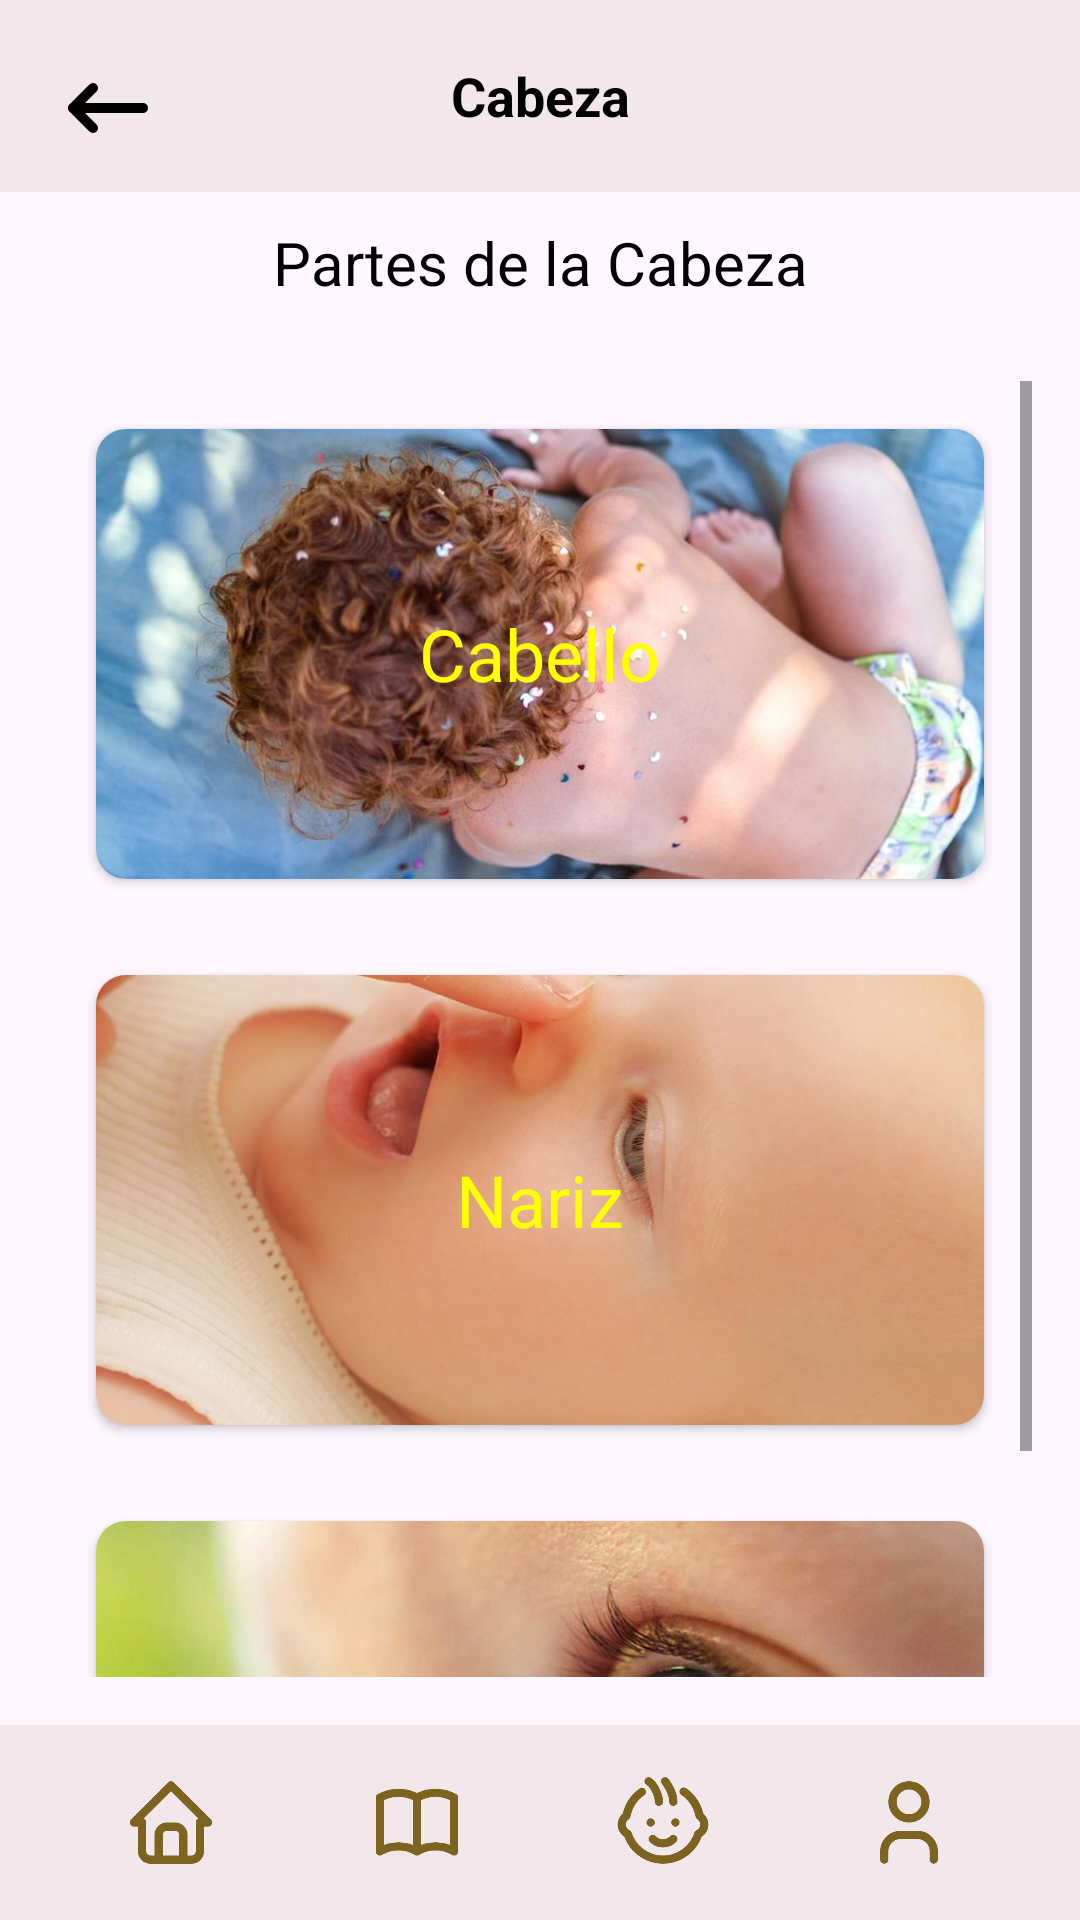

Locate icon controls on the screen. Image size 1080px×1920px, boxes as (x1, y1, x2, y2).
book: (376, 1789, 458, 1856)
home: (130, 1781, 212, 1864)
moodboy: (617, 1777, 709, 1864)
personaa: (880, 1781, 938, 1864)
